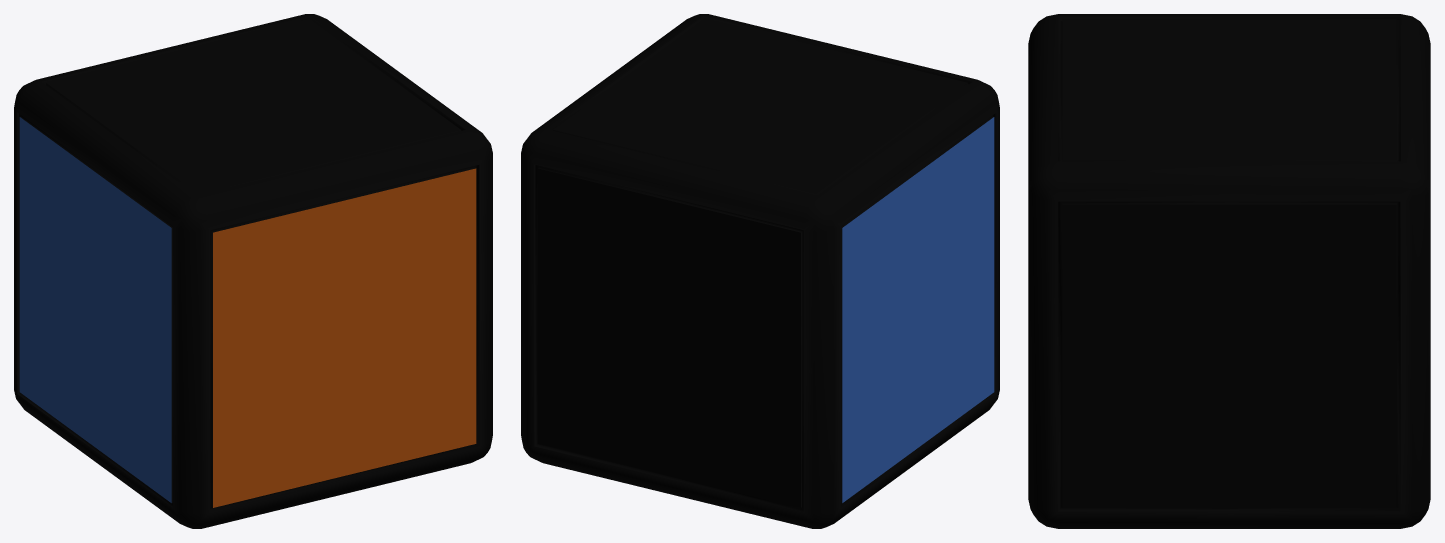
The model's file is singlecube14.gltf.
3 views of the same model, side by side, from view 1: azimuth 30°, elevation 25°; view 2: azimuth 150°, elevation 25°; view 3: azimuth 270°, elevation 25° (orthographic). The views are drawn at different scales.
Parts seen in each view (by area): view 1: Cube.003; view 2: Cube.003; view 3: Cube.003.
Boxes of the visible parts, x1,y1,x2,y2 form: Cube.003: (14, 14, 492, 528); Cube.003: (521, 14, 999, 528); Cube.003: (1028, 14, 1430, 528).
Bounding box in the file's own units: 2 × 2 × 2.
